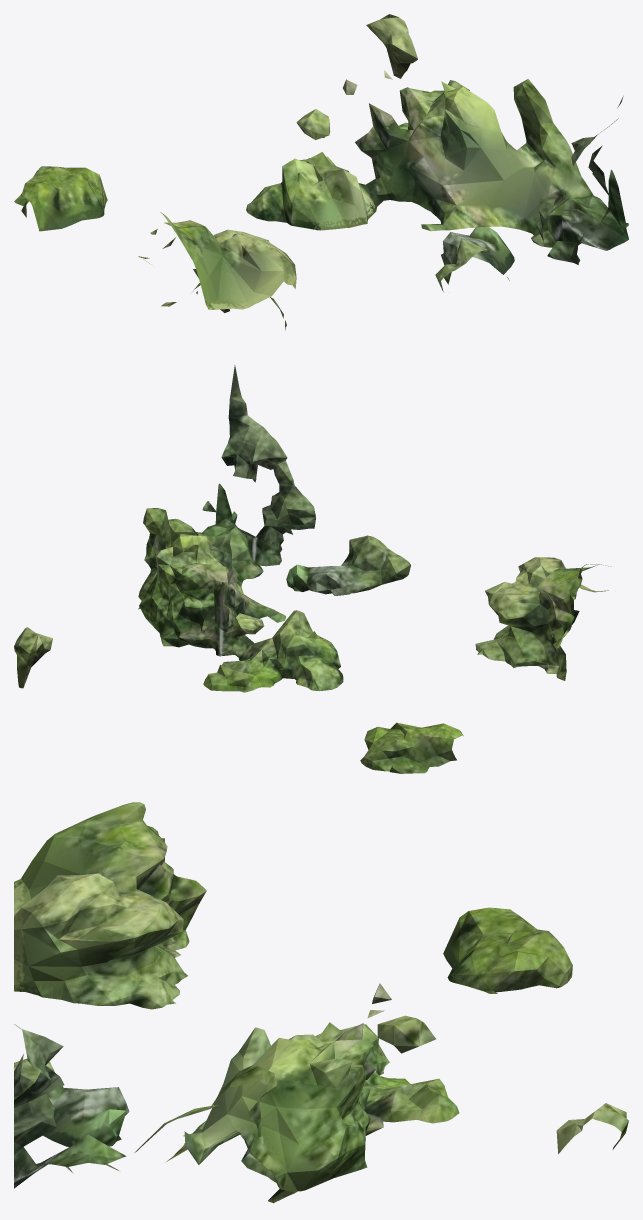
3 renders of one model, top to bottom at view 1: azimuth 30°, elevation 25°; view 2: azimuth 150°, elevation 25°; view 3: azimuth 270°, elevation 25°, orthographic. The views are drawn at different scales.
Size of the model in its own units: 52.22 by 22.07 by 51.31.
Materials: 2 (2 with a texture image).
